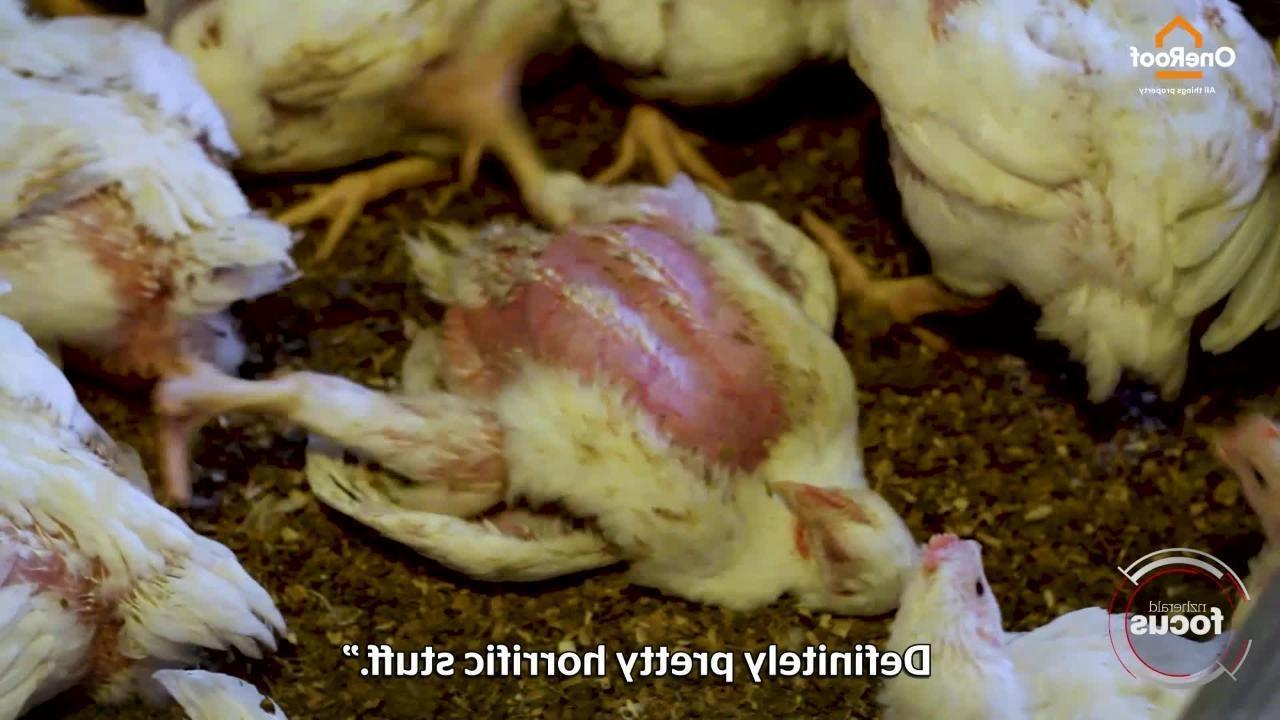AbNormal: (166, 186, 924, 608)
